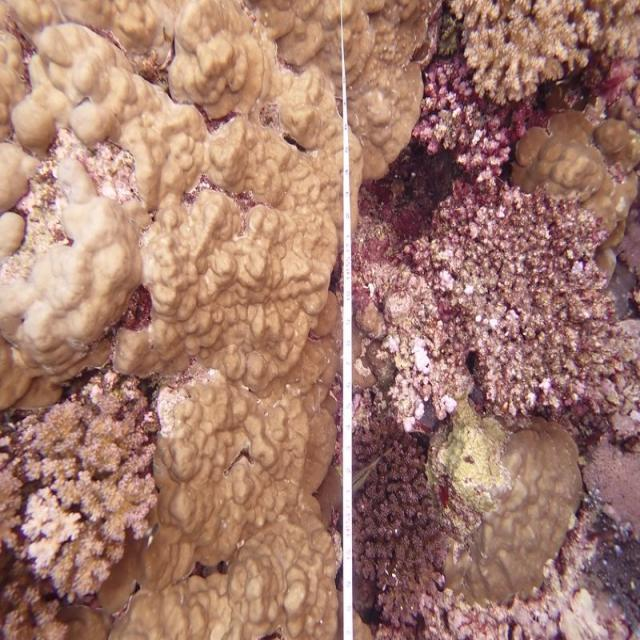Healthy Coral: (383, 182, 640, 428), (427, 400, 582, 602), (16, 378, 158, 586), (412, 56, 536, 181)
